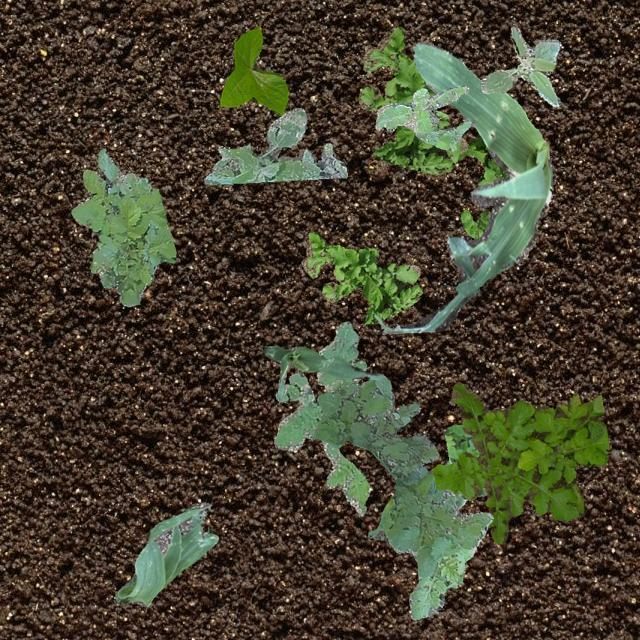crop: (374, 40, 552, 334), (114, 500, 218, 606), (263, 344, 382, 398), (218, 26, 288, 114), (454, 487, 486, 508)
weed: (314, 374, 492, 618), (428, 382, 608, 544), (272, 320, 368, 514), (70, 147, 176, 306), (358, 25, 467, 174), (300, 230, 422, 324), (202, 106, 346, 184), (432, 110, 508, 238), (374, 84, 474, 150), (480, 26, 560, 106), (442, 424, 480, 464)
